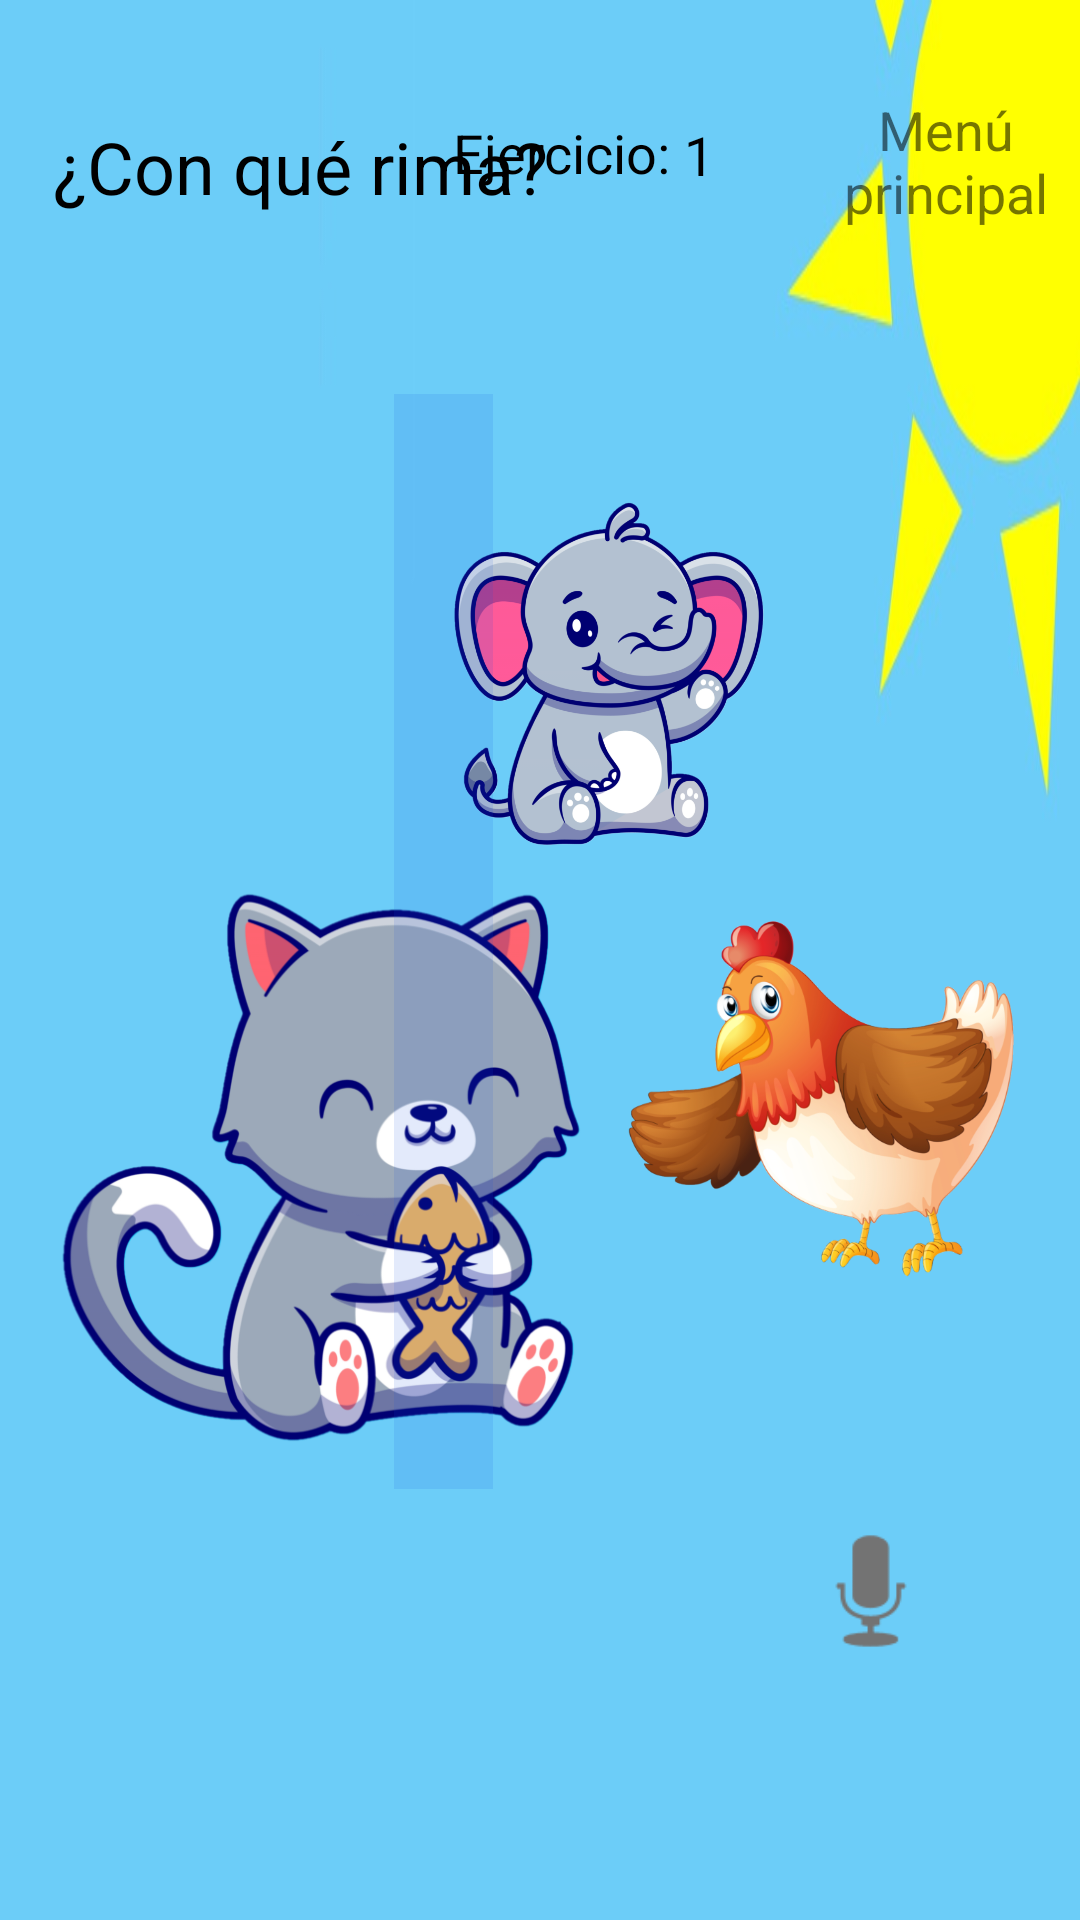

Icon bounding boxes for this 1080 x 1920 phone screenshot, format detection(x1, y1, x2, y2):
elefante: detection(454, 503, 764, 845)
speak now: detection(836, 1535, 906, 1647)
